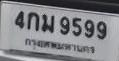letters: (41, 14, 54, 33), (28, 12, 39, 31), (96, 21, 107, 40), (60, 16, 70, 35), (84, 20, 94, 38), (15, 11, 24, 29), (73, 18, 82, 36)
province: (25, 38, 95, 54)
